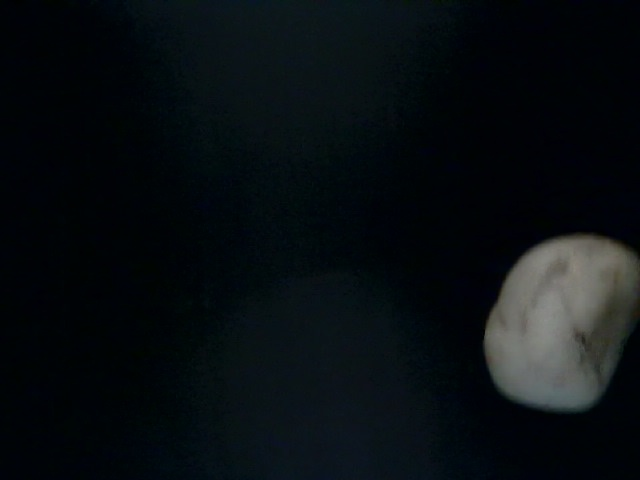QTLJ: (391, 177, 594, 348)
